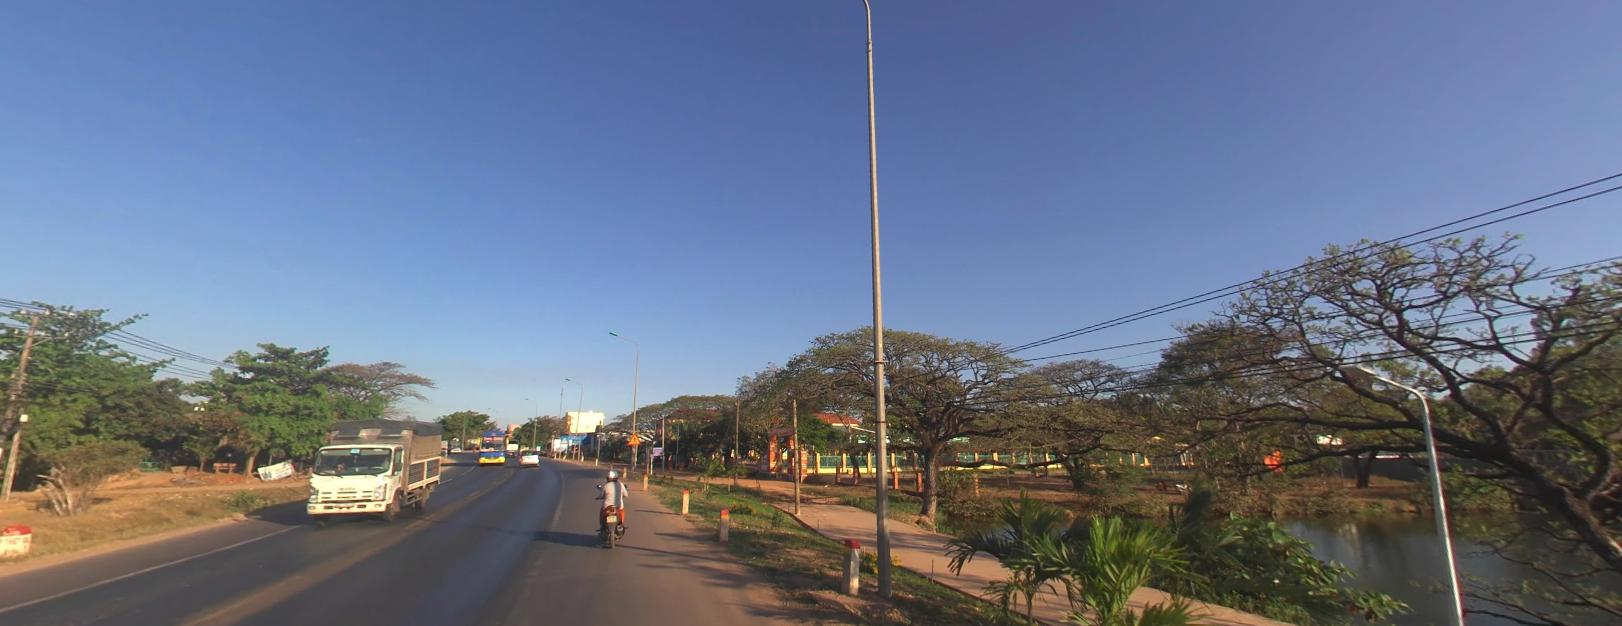Nguy hiem: (626, 432, 639, 443)
